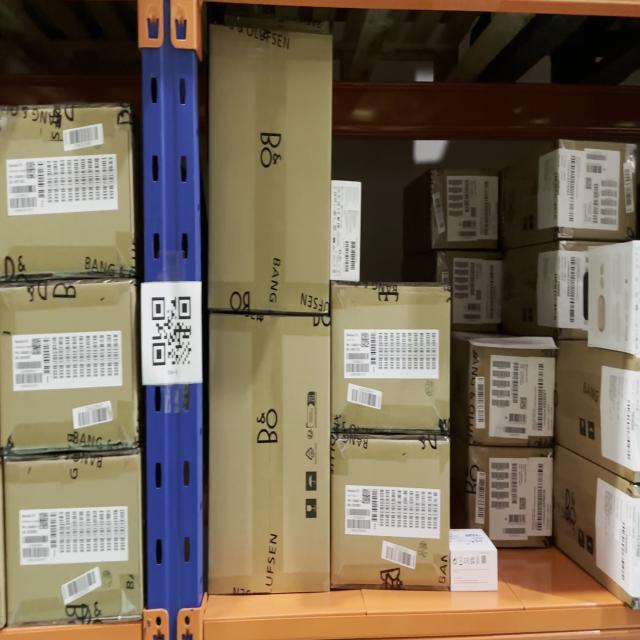box: (212, 24, 331, 312), (212, 312, 332, 584), (3, 457, 142, 621), (1, 282, 136, 449), (332, 285, 452, 432), (331, 438, 449, 584), (561, 145, 638, 239)
